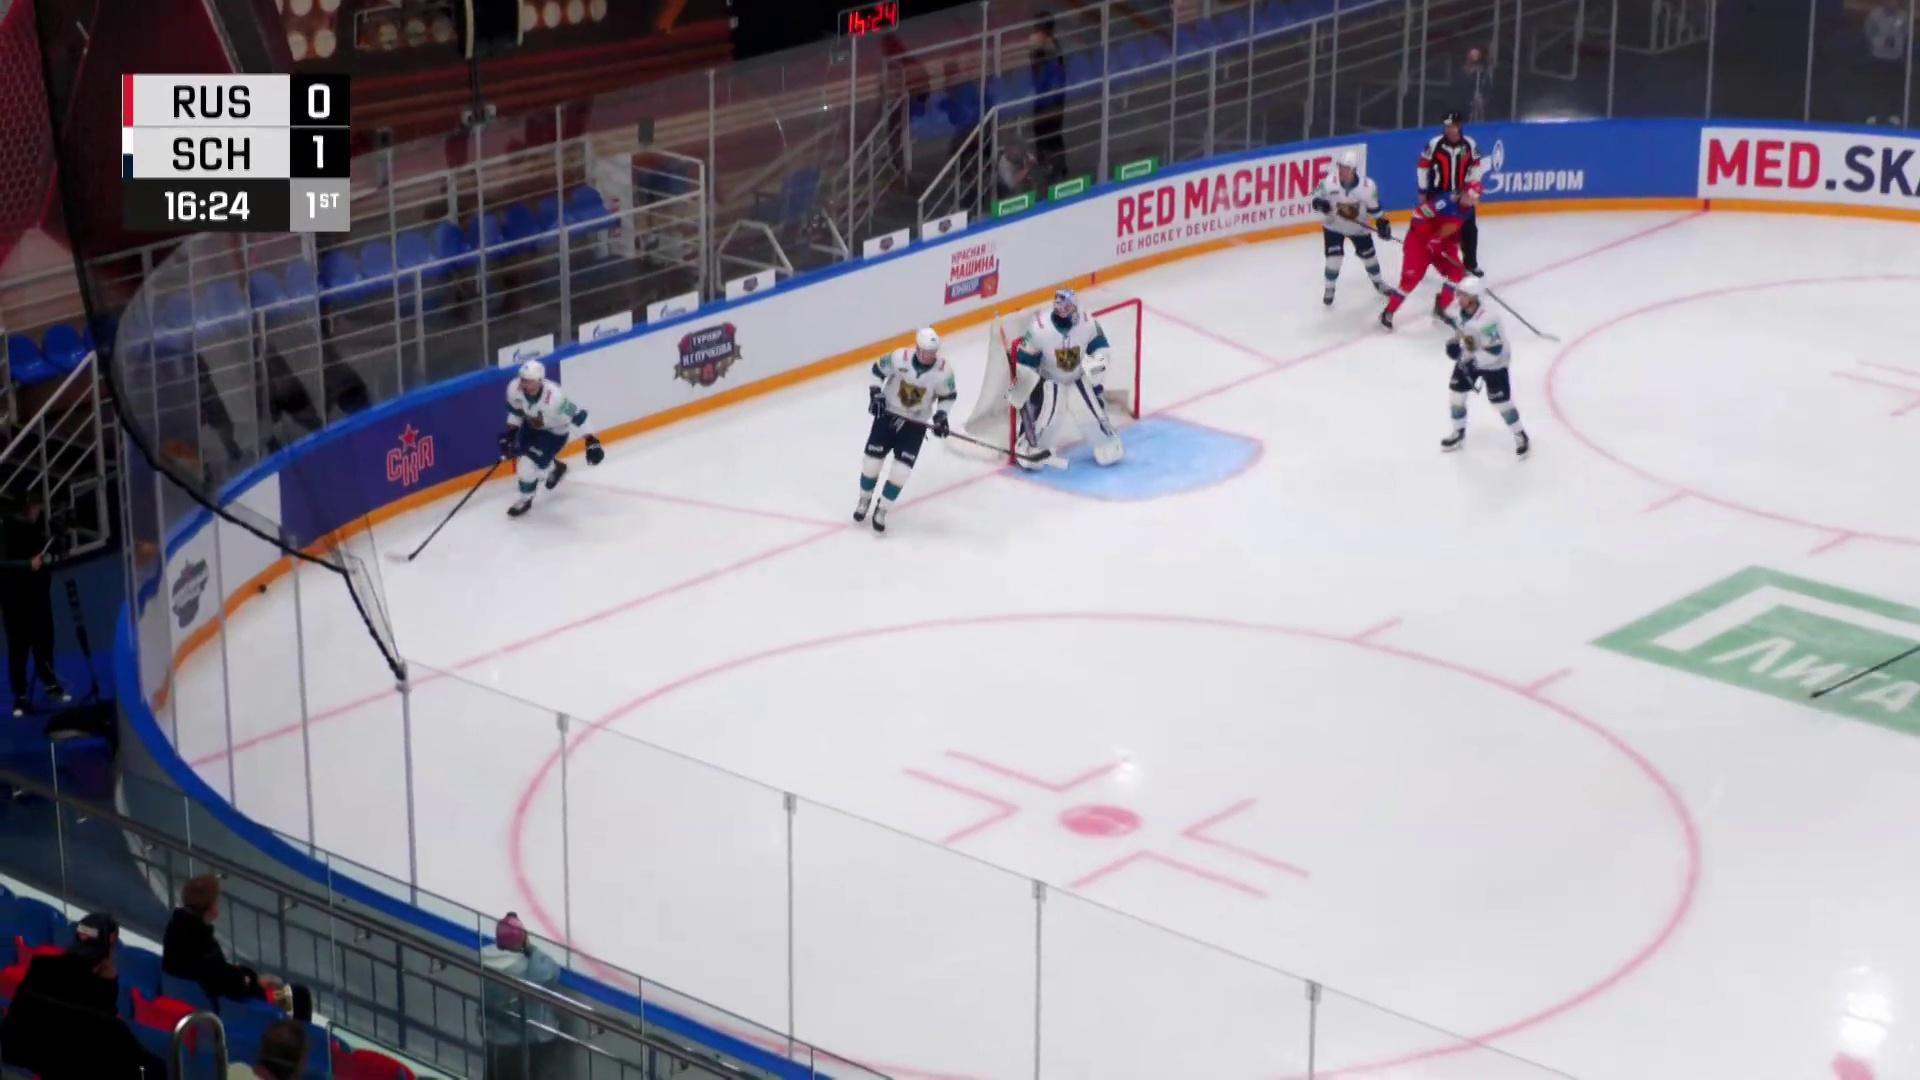ball: (257, 584, 268, 595)
